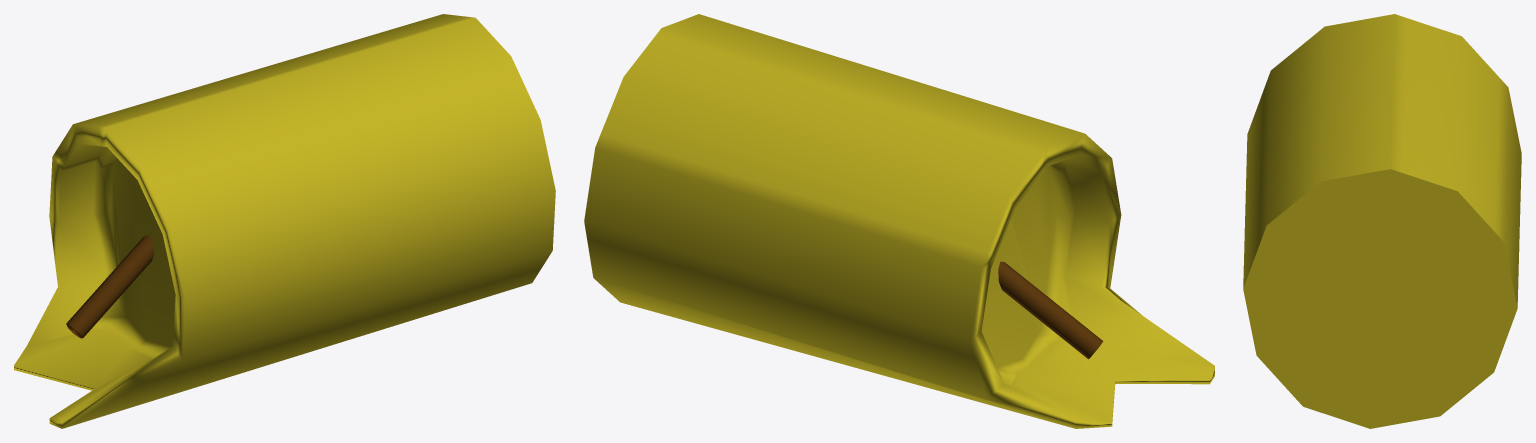
Rendered from interactible_candle_burning.fbx.
3 renders of one model, left to right at view 1: azimuth 30°, elevation 25°; view 2: azimuth 150°, elevation 25°; view 3: azimuth 270°, elevation 25°, orthographic. The views are drawn at different scales.
Parts seen in each view (by area): view 1: interactible_candle_burning; view 2: interactible_candle_burning; view 3: interactible_candle_burning.
Boxes of the visible parts, left/top/right/bottom form: interactible_candle_burning: left=14, top=14, right=555, bottom=428; interactible_candle_burning: left=584, top=14, right=1214, bottom=428; interactible_candle_burning: left=1243, top=14, right=1521, bottom=428.
Size of the model in its own units: 0.6589 by 0.3333 by 0.3322.
